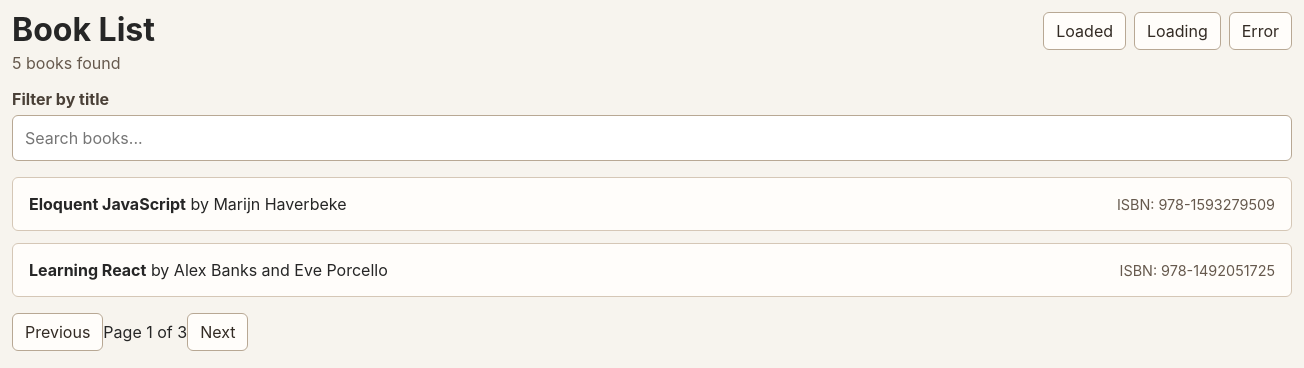
Test case: BookList › renders the loading state
The image size is (1304, 368).
Click the button "Loading" at (1177, 31), box [1134,12,1221,50]
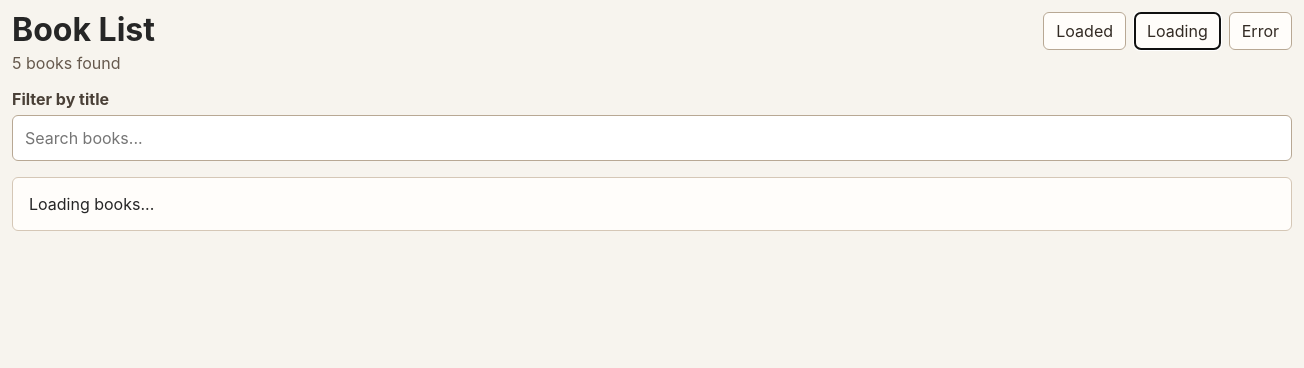
Expected: the text "Loading books..." is shown, [12,177,1292,231]
Expected: the list is gone
